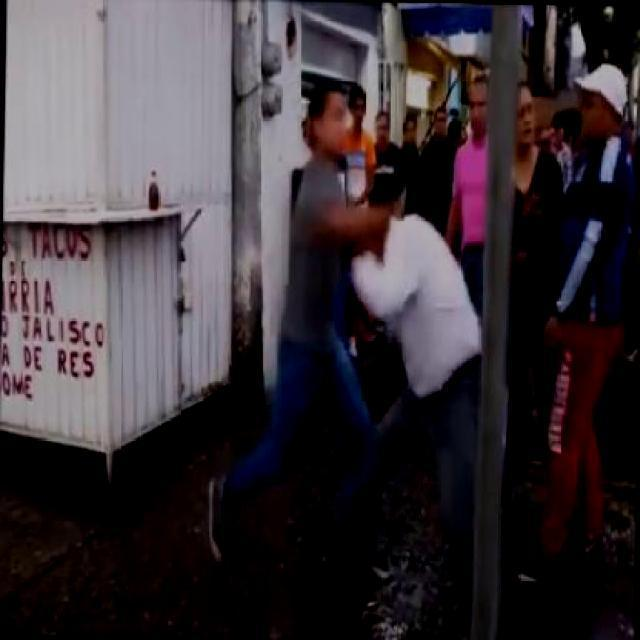fight: (236, 86, 479, 574)
